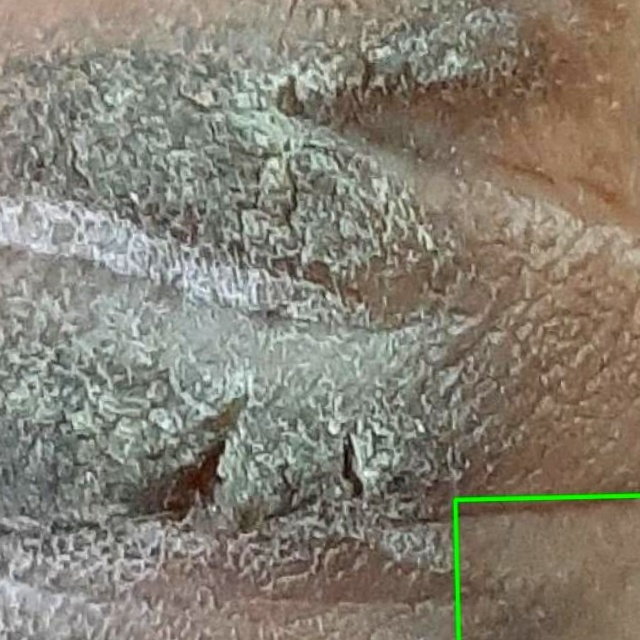Contact Dermatitis: (455, 495, 639, 639)
